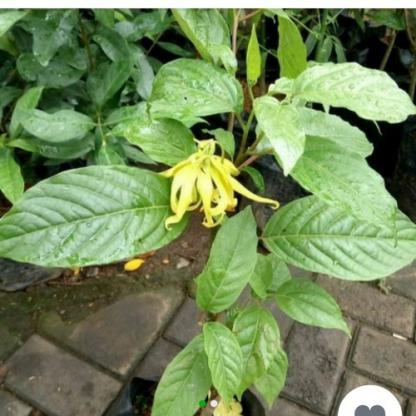Kenanga: (178, 149, 252, 232)
